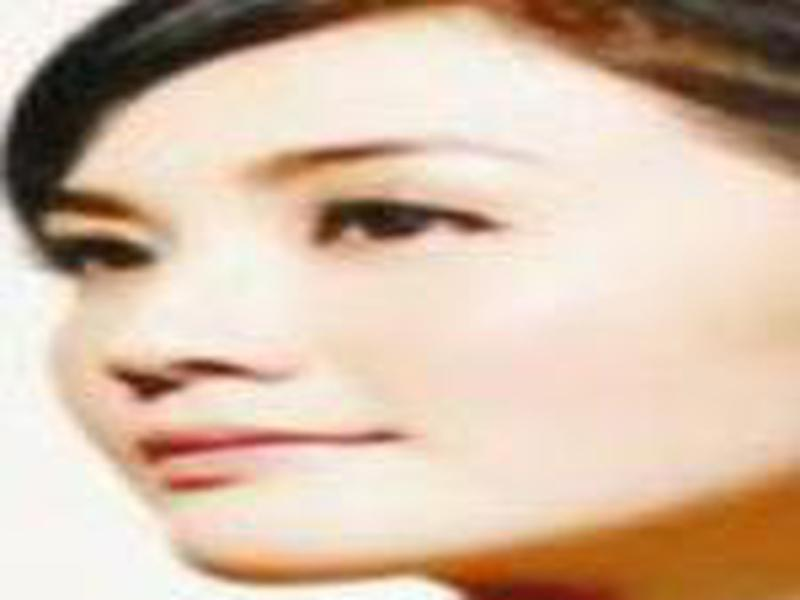without_mask: (16, 55, 768, 591)
